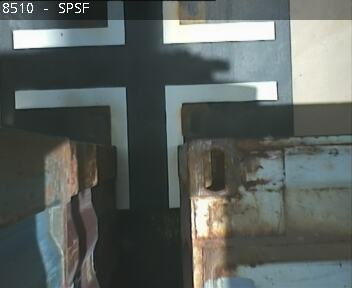groundmarker_1: (13, 77, 277, 207)
